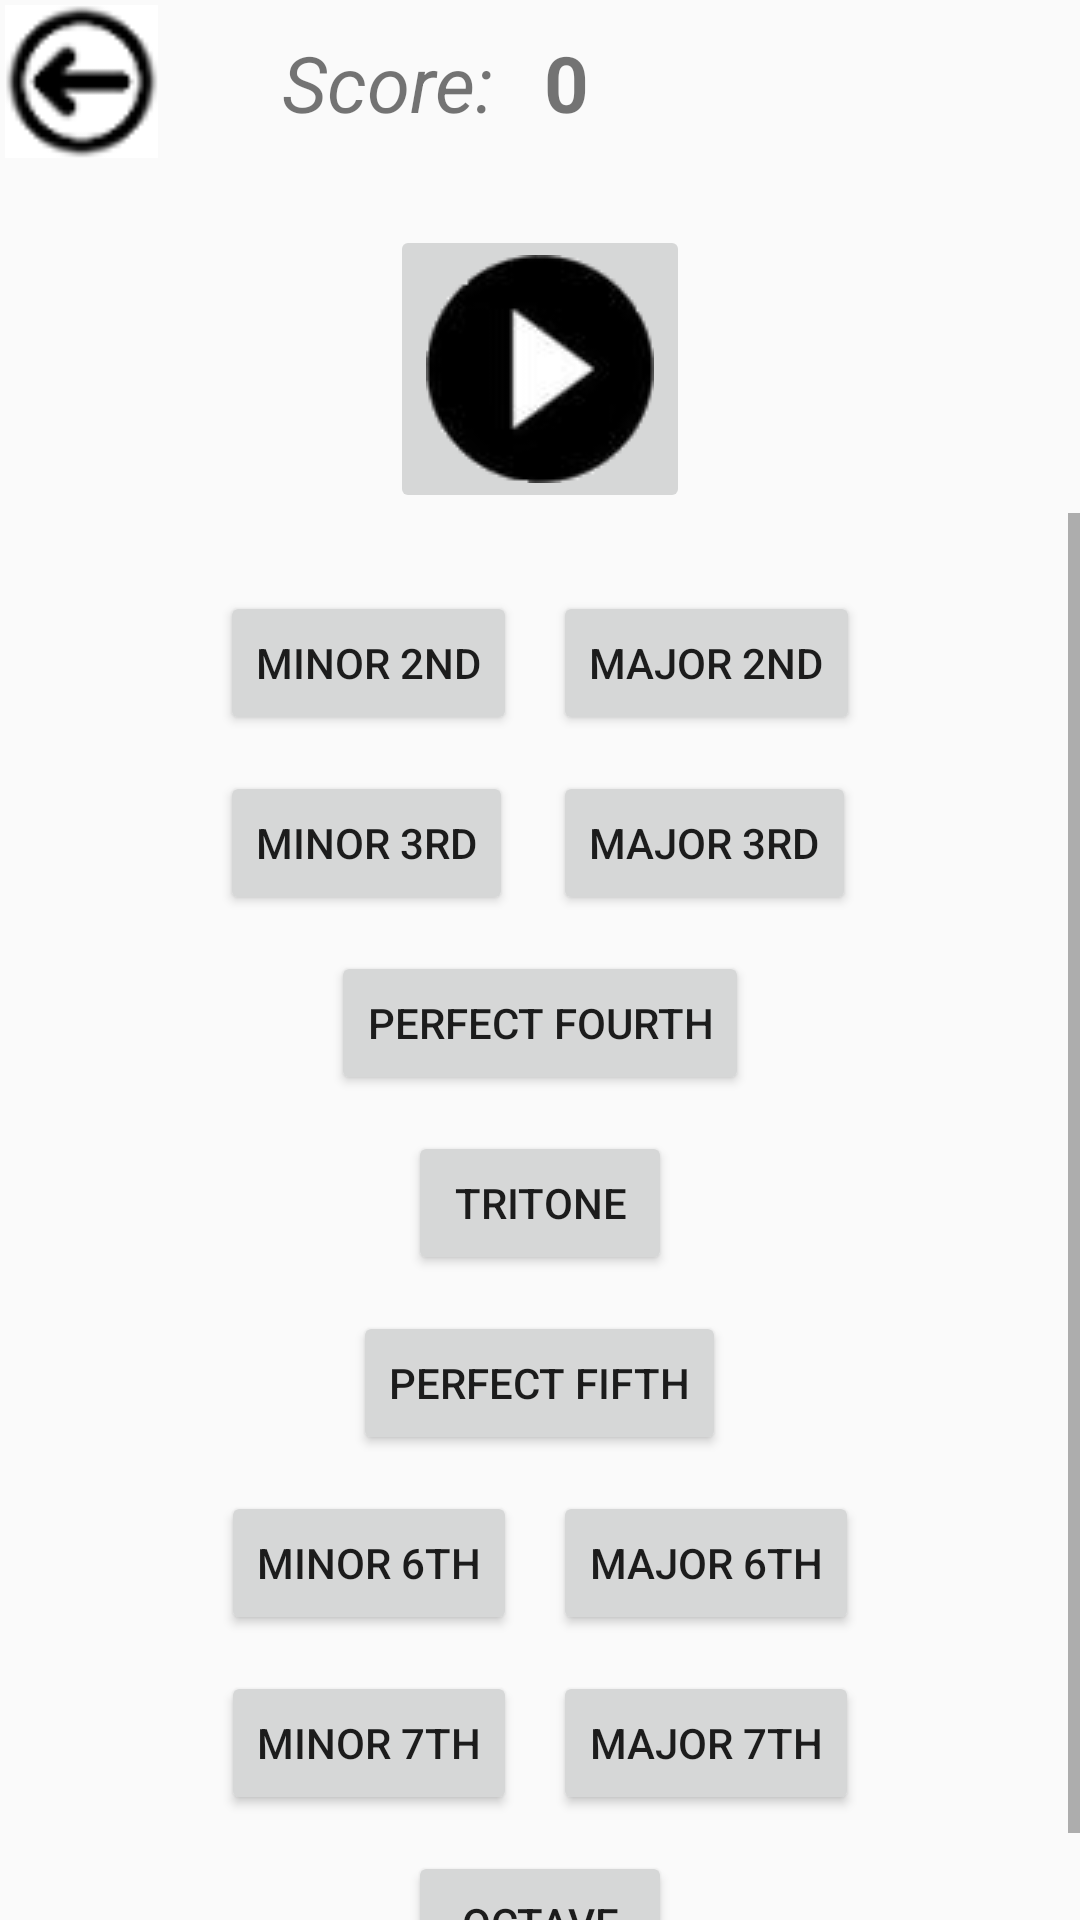

Icon bounding boxes for this 1080x1920 phone screenshot, format bbox(x1, y1, x2, y2):
play: bbox(402, 243, 678, 495)
